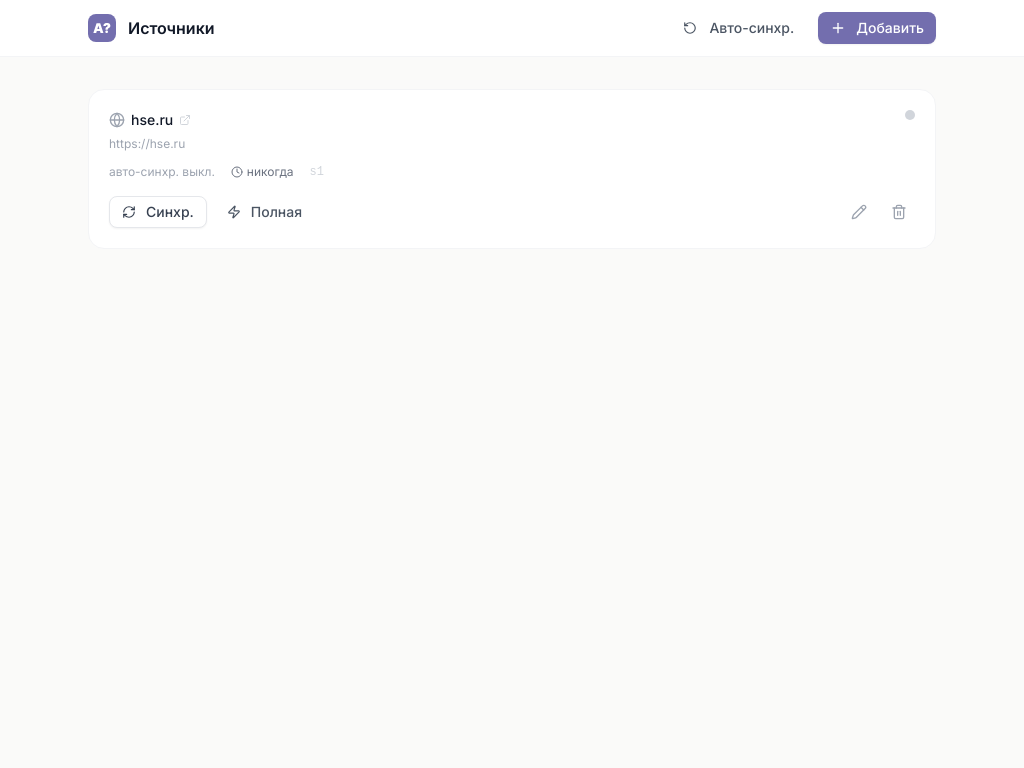
Test: SourcesPage › opens add modal on header "Добавить" button click
Expected: the link "hse.ru" is shown, 109,110 -> 191,130
// Header button is the first "Добавить" button
Click the button "Добавить": (877,28) 818,12 -> 936,44
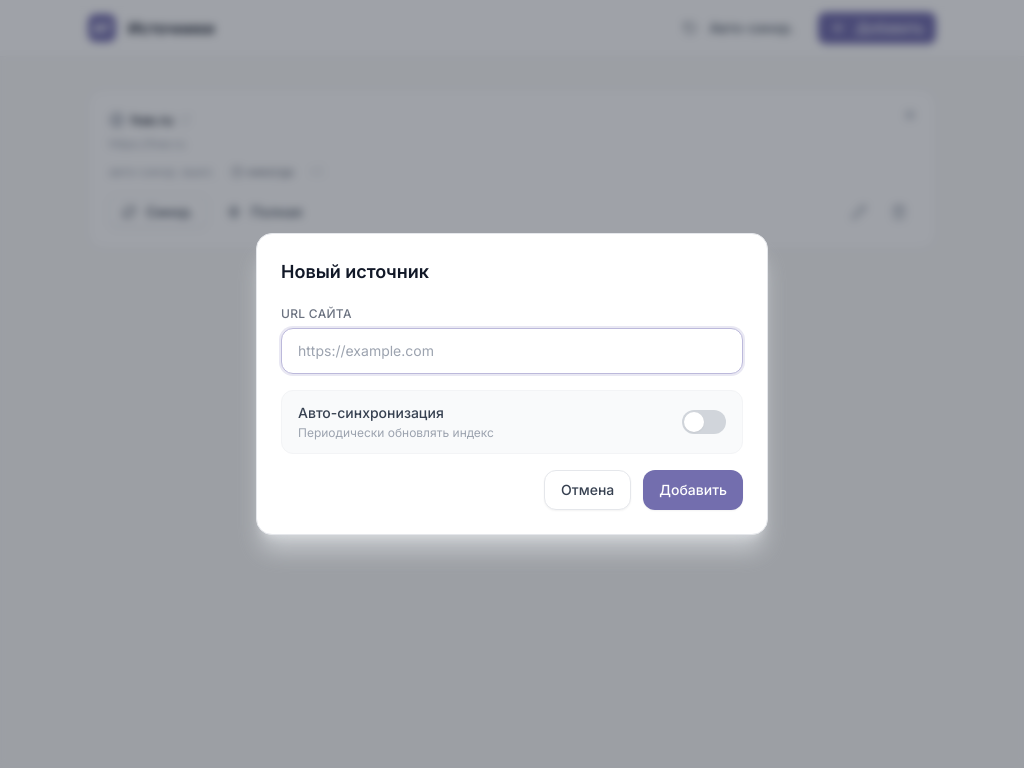
Result: the dialog is shown at 256,233 -> 768,535
Result: the heading "Новый источник" is shown at 281,261 -> 429,282
